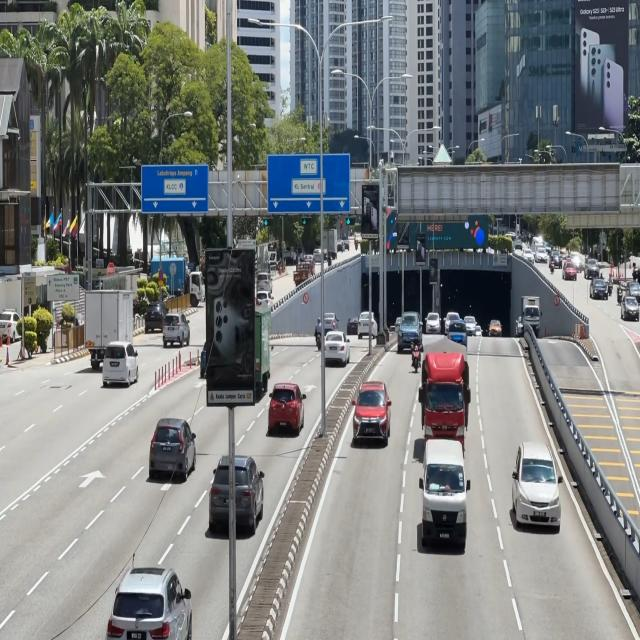Car: (416, 338, 473, 448), (106, 569, 194, 640), (507, 442, 562, 536), (421, 449, 468, 554), (208, 454, 266, 538), (85, 287, 133, 358), (351, 376, 394, 448), (151, 416, 197, 480), (268, 376, 307, 442), (104, 342, 141, 389), (162, 312, 192, 351), (396, 309, 422, 353), (323, 326, 350, 366)
